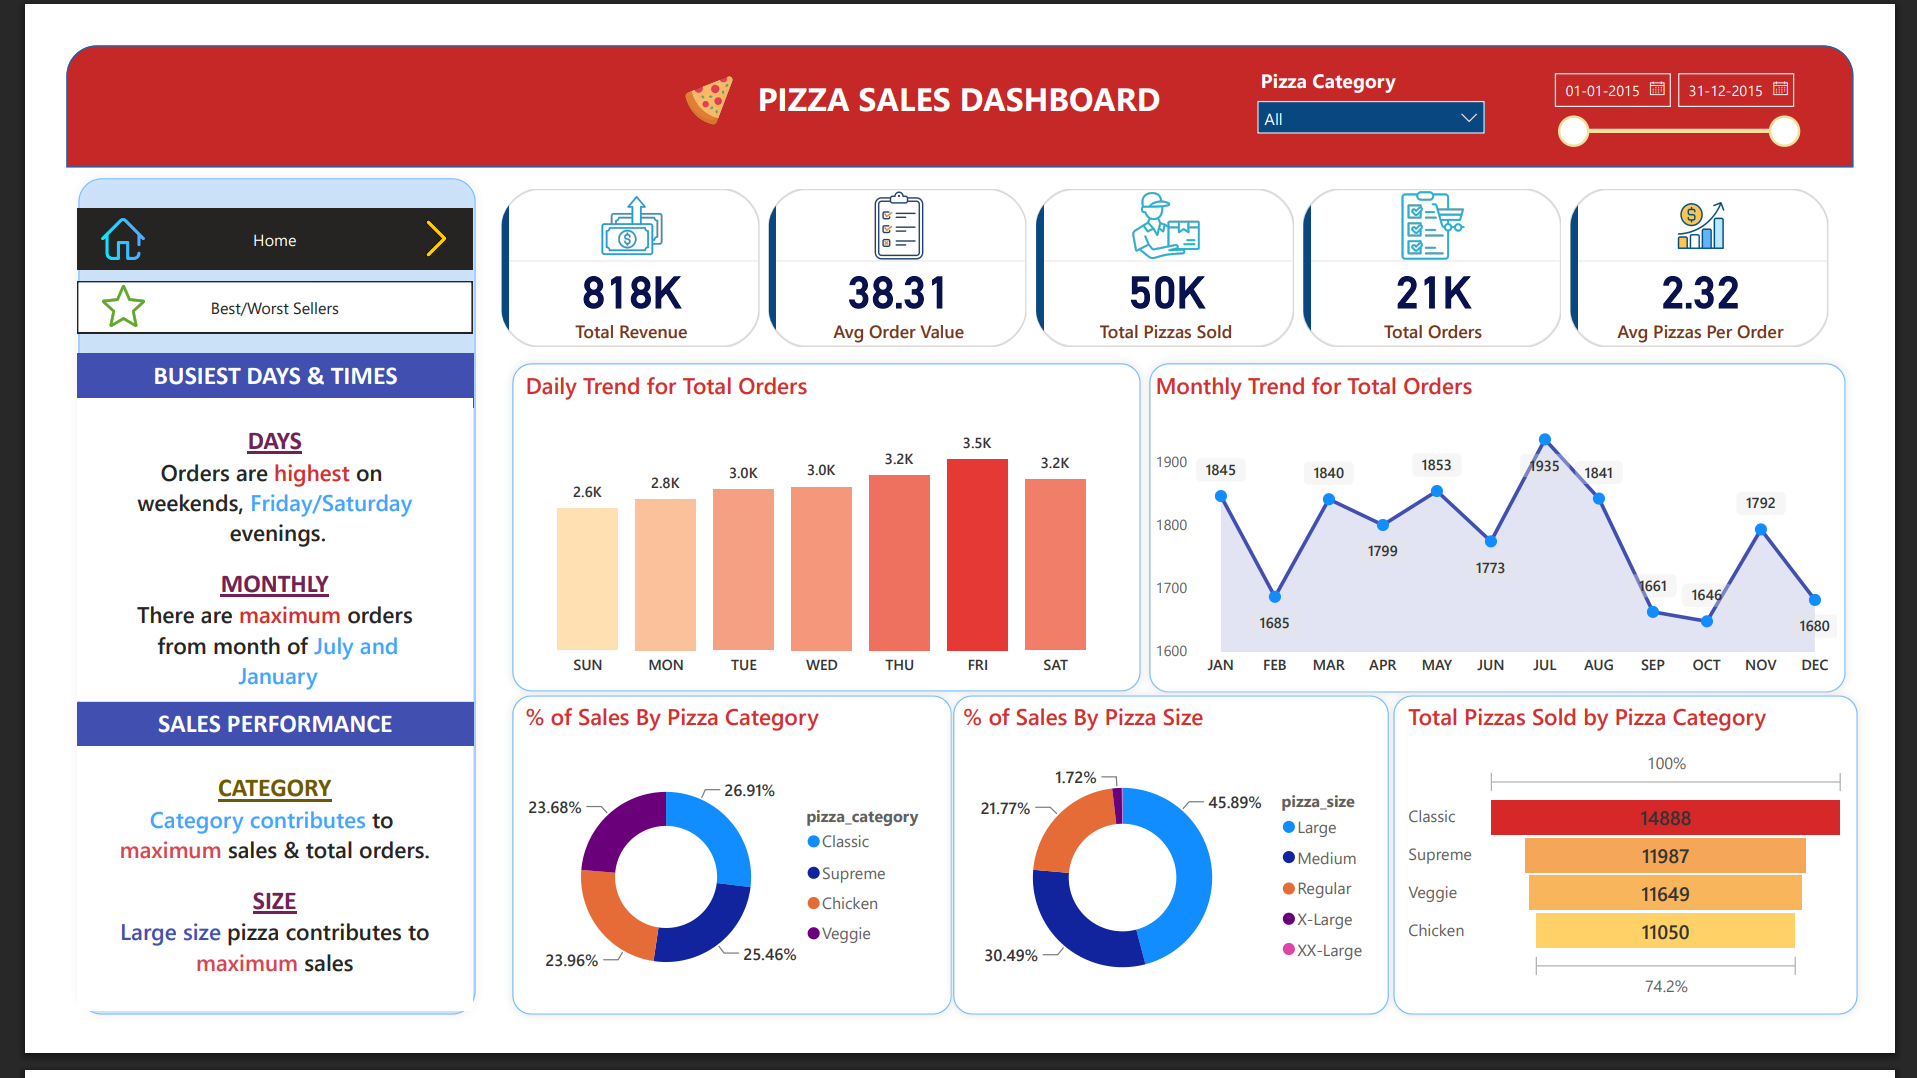

What the dashboard file says about the page in this screenshot:
{"tool":"powerbi","page":{"name":"Home","canvas":[1500,820],"ordinal":0},"visuals":[{"type":"cardVisual","fields":{"Data":["pizza_sales.Total Revenue","pizza_sales.Avg Order Value","pizza_sales.Total Pizzas Sold","pizza_sales.Total Orders","pizza_sales.Avg Pizzas Per Order"]},"box":[354.3,112.9,1134.3,164.3],"z":0},{"type":"shape","box":[10.9,10.9,1478.5,100.8],"z":1000},{"type":"textbox","box":[570,31.4,358.8,52.5],"z":2000},{"type":"image","box":[500,35.7,83.8,41.2],"z":3000},{"type":"shape","box":[372,265.7,535,287.5],"z":4000},{"type":"columnChart","title":"Daily Trend for Total Orders","fields":{"Category":["pizza_sales.Order Day"],"Y":["pizza_sales.Total Orders"]},"box":[385.7,278.6,500,262.9],"z":5000},{"type":"shape","box":[898.6,265.7,591.4,288.6],"z":6000},{"type":"areaChart","title":"Monthly Trend for Total Orders","fields":{"Category":["pizza_sales.Order Month"],"Y":["pizza_sales.Total Orders"]},"box":[907.1,278.6,572.9,262.9],"z":7000},{"type":"shape","box":[372,541,378.8,279.3],"z":8000},{"type":"shape","box":[737.2,541,374.7,279.3],"z":9000},{"type":"shape","box":[1101,541,399.3,279.3],"z":10000},{"type":"donutChart","title":"% of Sales By Pizza Category","fields":{"Category":["pizza_sales.pizza_category"],"Y":["pizza_sales.Total Revenue"]},"box":[385.6,553.2,351.6,254.8],"z":11000},{"type":"donutChart","title":"% of Sales By Pizza Size","fields":{"Category":["pizza_sales.pizza_size"],"Y":["pizza_sales.Total Revenue"]},"box":[748.1,553.2,352.9,256.2],"z":12000},{"type":"funnel","title":"Total Pizzas Sold by Pizza Category","fields":{"Category":["pizza_sales.pizza_category"],"Y":["pizza_sales.Total Pizzas Sold"]},"box":[1116,553.2,372,249.4],"z":13000},{"type":"shape","box":[12.9,112.9,344.3,707.1],"z":14000},{"type":"textbox","box":[20,265.7,327.5,45],"z":15000},{"type":"textbox","box":[20,302.9,327.1,250],"z":16000},{"type":"textbox","box":[20,553.8,327.5,36.2],"z":17000},{"type":"textbox","box":[20,590,327.1,218.6],"z":18000},{"type":"slicer","fields":{"Values":["pizza_sales.pizza_category"]},"box":[985.7,24.3,208.5,65.4],"z":19000},{"type":"slicer","fields":{"Values":["pizza_sales.order_date"]},"box":[1228.6,24.3,224.3,77.1],"z":20000},{"type":"pageNavigator","box":[20,145.7,327.1,50],"z":21000},{"type":"pageNavigator","box":[20,205.7,327.1,42.9],"z":22000},{"type":"image","box":[262.9,155.7,108.6,30],"z":23000},{"type":"image","box":[30,152.9,55.7,35.7],"z":24000},{"type":"image","box":[27.1,208.6,61.4,35.7],"z":25000}]}

Visuals, with their boxes in screenshot pixels (x1, y1, x2, y2), scaled from the page's 1500x820 canvas onto the 1917x1078 screenshot:
cardVisual - pizza_sales.Total Revenue x pizza_sales.Avg Order Value: region(453, 148, 1902, 364)
shape: region(14, 14, 1903, 147)
textbox: region(728, 41, 1187, 110)
image: region(639, 47, 746, 101)
shape: region(475, 349, 1159, 727)
"Daily Trend for Total Orders" columnChart: region(493, 366, 1132, 712)
shape: region(1148, 349, 1904, 729)
"Monthly Trend for Total Orders" areaChart: region(1159, 366, 1891, 712)
shape: region(475, 711, 960, 1077)
shape: region(942, 711, 1421, 1077)
shape: region(1407, 711, 1916, 1077)
"% of Sales By Pizza Category" donutChart: region(493, 727, 942, 1062)
"% of Sales By Pizza Size" donutChart: region(956, 727, 1407, 1064)
"Total Pizzas Sold by Pizza Category" funnel: region(1426, 727, 1902, 1055)
shape: region(16, 148, 457, 1077)
textbox: region(26, 349, 444, 408)
textbox: region(26, 398, 444, 727)
textbox: region(26, 728, 444, 776)
textbox: region(26, 776, 444, 1063)
slicer - pizza_sales.pizza_category: region(1260, 32, 1526, 118)
slicer - pizza_sales.order_date: region(1570, 32, 1857, 133)
pageNavigator: region(26, 192, 444, 257)
pageNavigator: region(26, 270, 444, 327)
image: region(336, 205, 475, 244)
image: region(38, 201, 110, 248)
image: region(35, 274, 113, 321)
